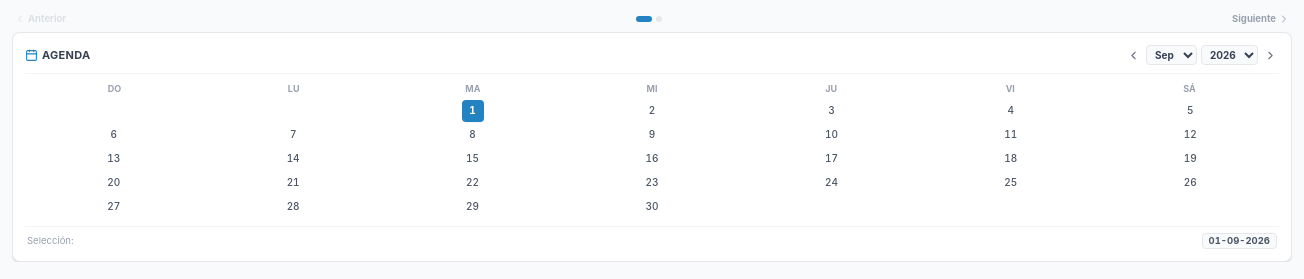
Test case: AgendaCarrusel › cambiar el día seleccionado en la Hoja 1 actualiza la Hoja 2 a esa fecha
The width and height of the screenshot is (1304, 279).
# Selecciona el día 25 del mes visible (septiembre 2026) en el calendario.
Step 1. Click the button "25" → [1011, 183], box left=1000, top=172, right=1022, bottom=194
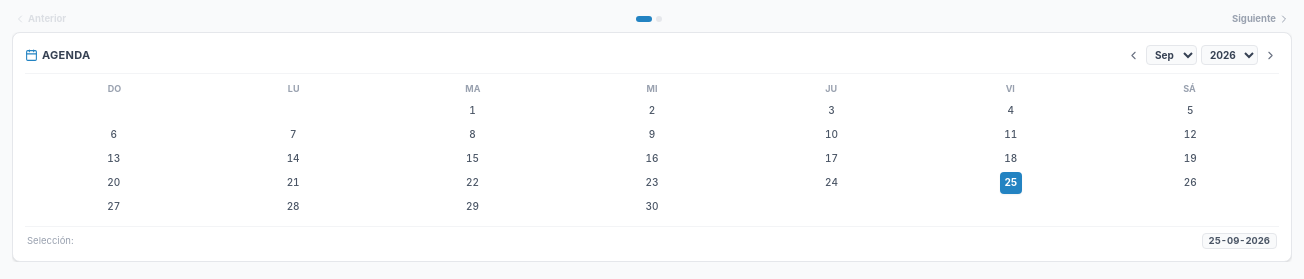
Step 2. Click the button "Siguiente" → [1261, 19], box left=1232, top=12, right=1290, bottom=26
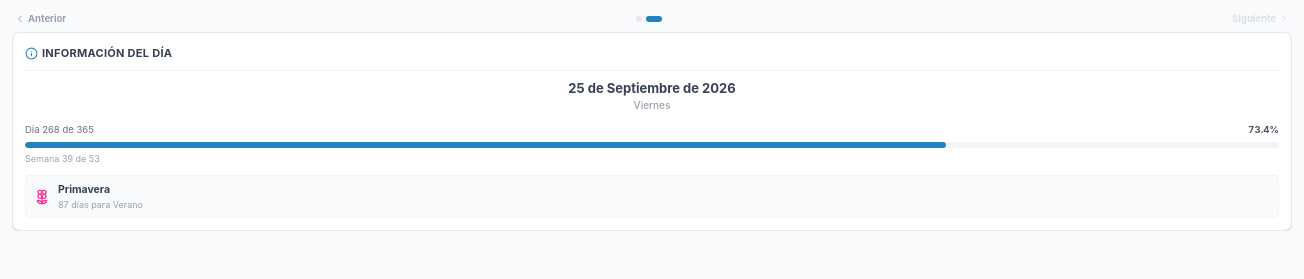
Check: the text "25 de Septiembre de 2026" is shown, box left=568, top=80, right=736, bottom=96
